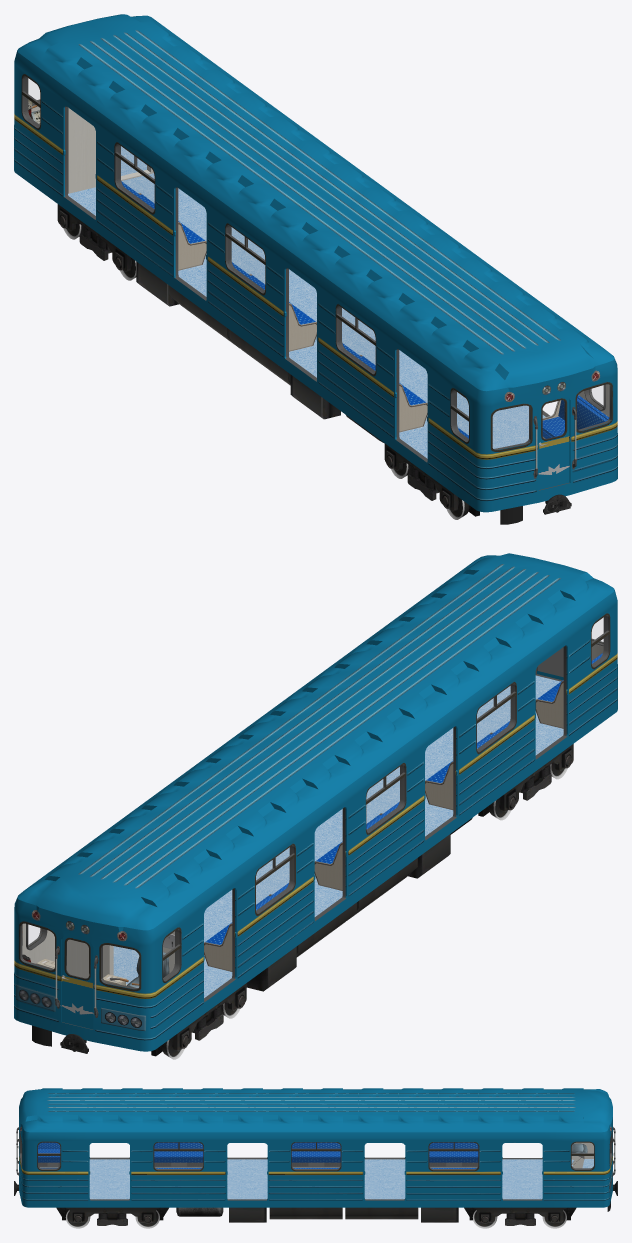
The model's file is SubwayTrain01_Body1.FBX.
3 views of the same model, one above another, from view 1: azimuth 30°, elevation 25°; view 2: azimuth 150°, elevation 25°; view 3: azimuth 270°, elevation 25° (orthographic). The views are drawn at different scales.
Visible parts, largest first — view 1: SubwayTrain01_Roof, SubwayTrain01_Body1, SubwayTrain01_Inter, SubwayTrain01_Wheels, SubwayTrain01_InterBench, SubwayTrain_Bench01a, SubwayTrain01_InterEnter, SubwayTrain01_DoorF1; view 2: SubwayTrain01_Roof, SubwayTrain01_Body1, SubwayTrain01_Inter, SubwayTrain01_Wheels, SubwayTrain01_InterBench, SubwayTrain01_DoorF2, SubwayTrain_Bench01a, SubwayTrain01_InterEnter, SubwayTrain01_Inter2; view 3: SubwayTrain01_Body1, SubwayTrain01_Roof, SubwayTrain01_Inter, SubwayTrain01_Wheels, SubwayTrain_Bench01a, SubwayTrain01_Inter2.
Boxes of the visible parts, box(x1,y1,x2,y2) form: SubwayTrain01_Roof: box(17, 14, 614, 391); SubwayTrain01_Body1: box(14, 50, 617, 512); SubwayTrain01_Inter: box(22, 76, 611, 490); SubwayTrain01_Wheels: box(57, 204, 571, 524); SubwayTrain01_InterBench: box(138, 193, 561, 432); SubwayTrain_Bench01a: box(121, 181, 609, 438); SubwayTrain01_InterEnter: box(68, 107, 153, 193); SubwayTrain01_DoorF1: box(538, 396, 569, 489); SubwayTrain01_Roof: box(17, 553, 614, 930); SubwayTrain01_Body1: box(14, 590, 617, 1051); SubwayTrain01_Inter: box(20, 615, 609, 1029); SubwayTrain01_Wheels: box(32, 744, 573, 1059); SubwayTrain01_InterBench: box(204, 680, 563, 971); SubwayTrain01_DoorF2: box(61, 935, 93, 1029); SubwayTrain_Bench01a: box(205, 653, 602, 944); SubwayTrain01_InterEnter: box(66, 931, 174, 985); SubwayTrain01_Inter2: box(22, 924, 174, 1017); SubwayTrain01_Body1: box(19, 1117, 612, 1207); SubwayTrain01_Roof: box(19, 1088, 612, 1132); SubwayTrain01_Inter: box(19, 1133, 612, 1200); SubwayTrain01_Wheels: box(14, 1181, 617, 1228); SubwayTrain_Bench01a: box(38, 1142, 478, 1168); SubwayTrain01_Inter2: box(16, 1127, 615, 1176).
Bounding box in the file's own units: 4082 × 4898 × 24396.
